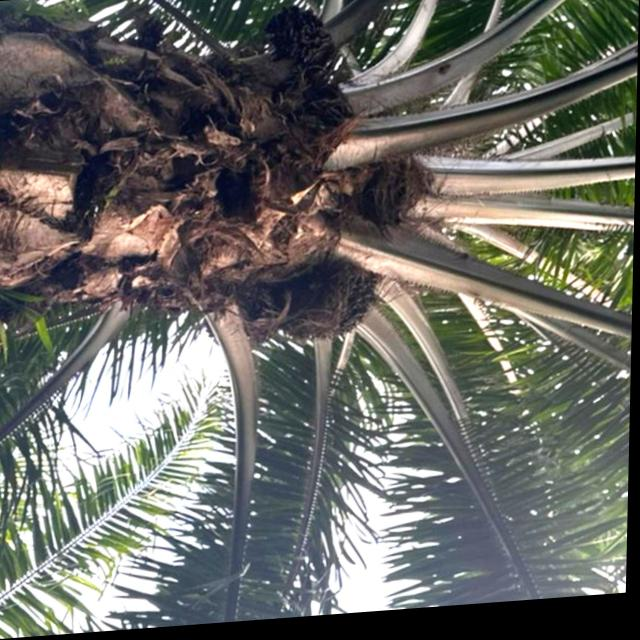unripe: (263, 259, 390, 353)
